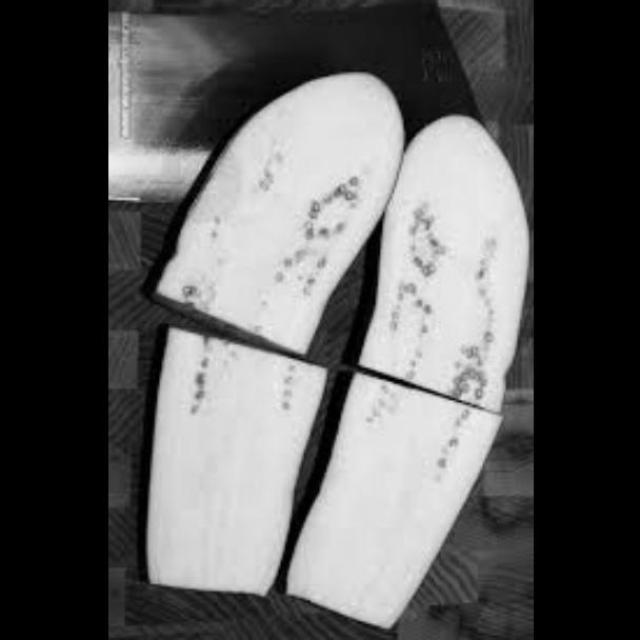ca tim: (134, 34, 414, 364), (145, 308, 322, 620), (378, 107, 525, 410), (338, 357, 497, 624)
